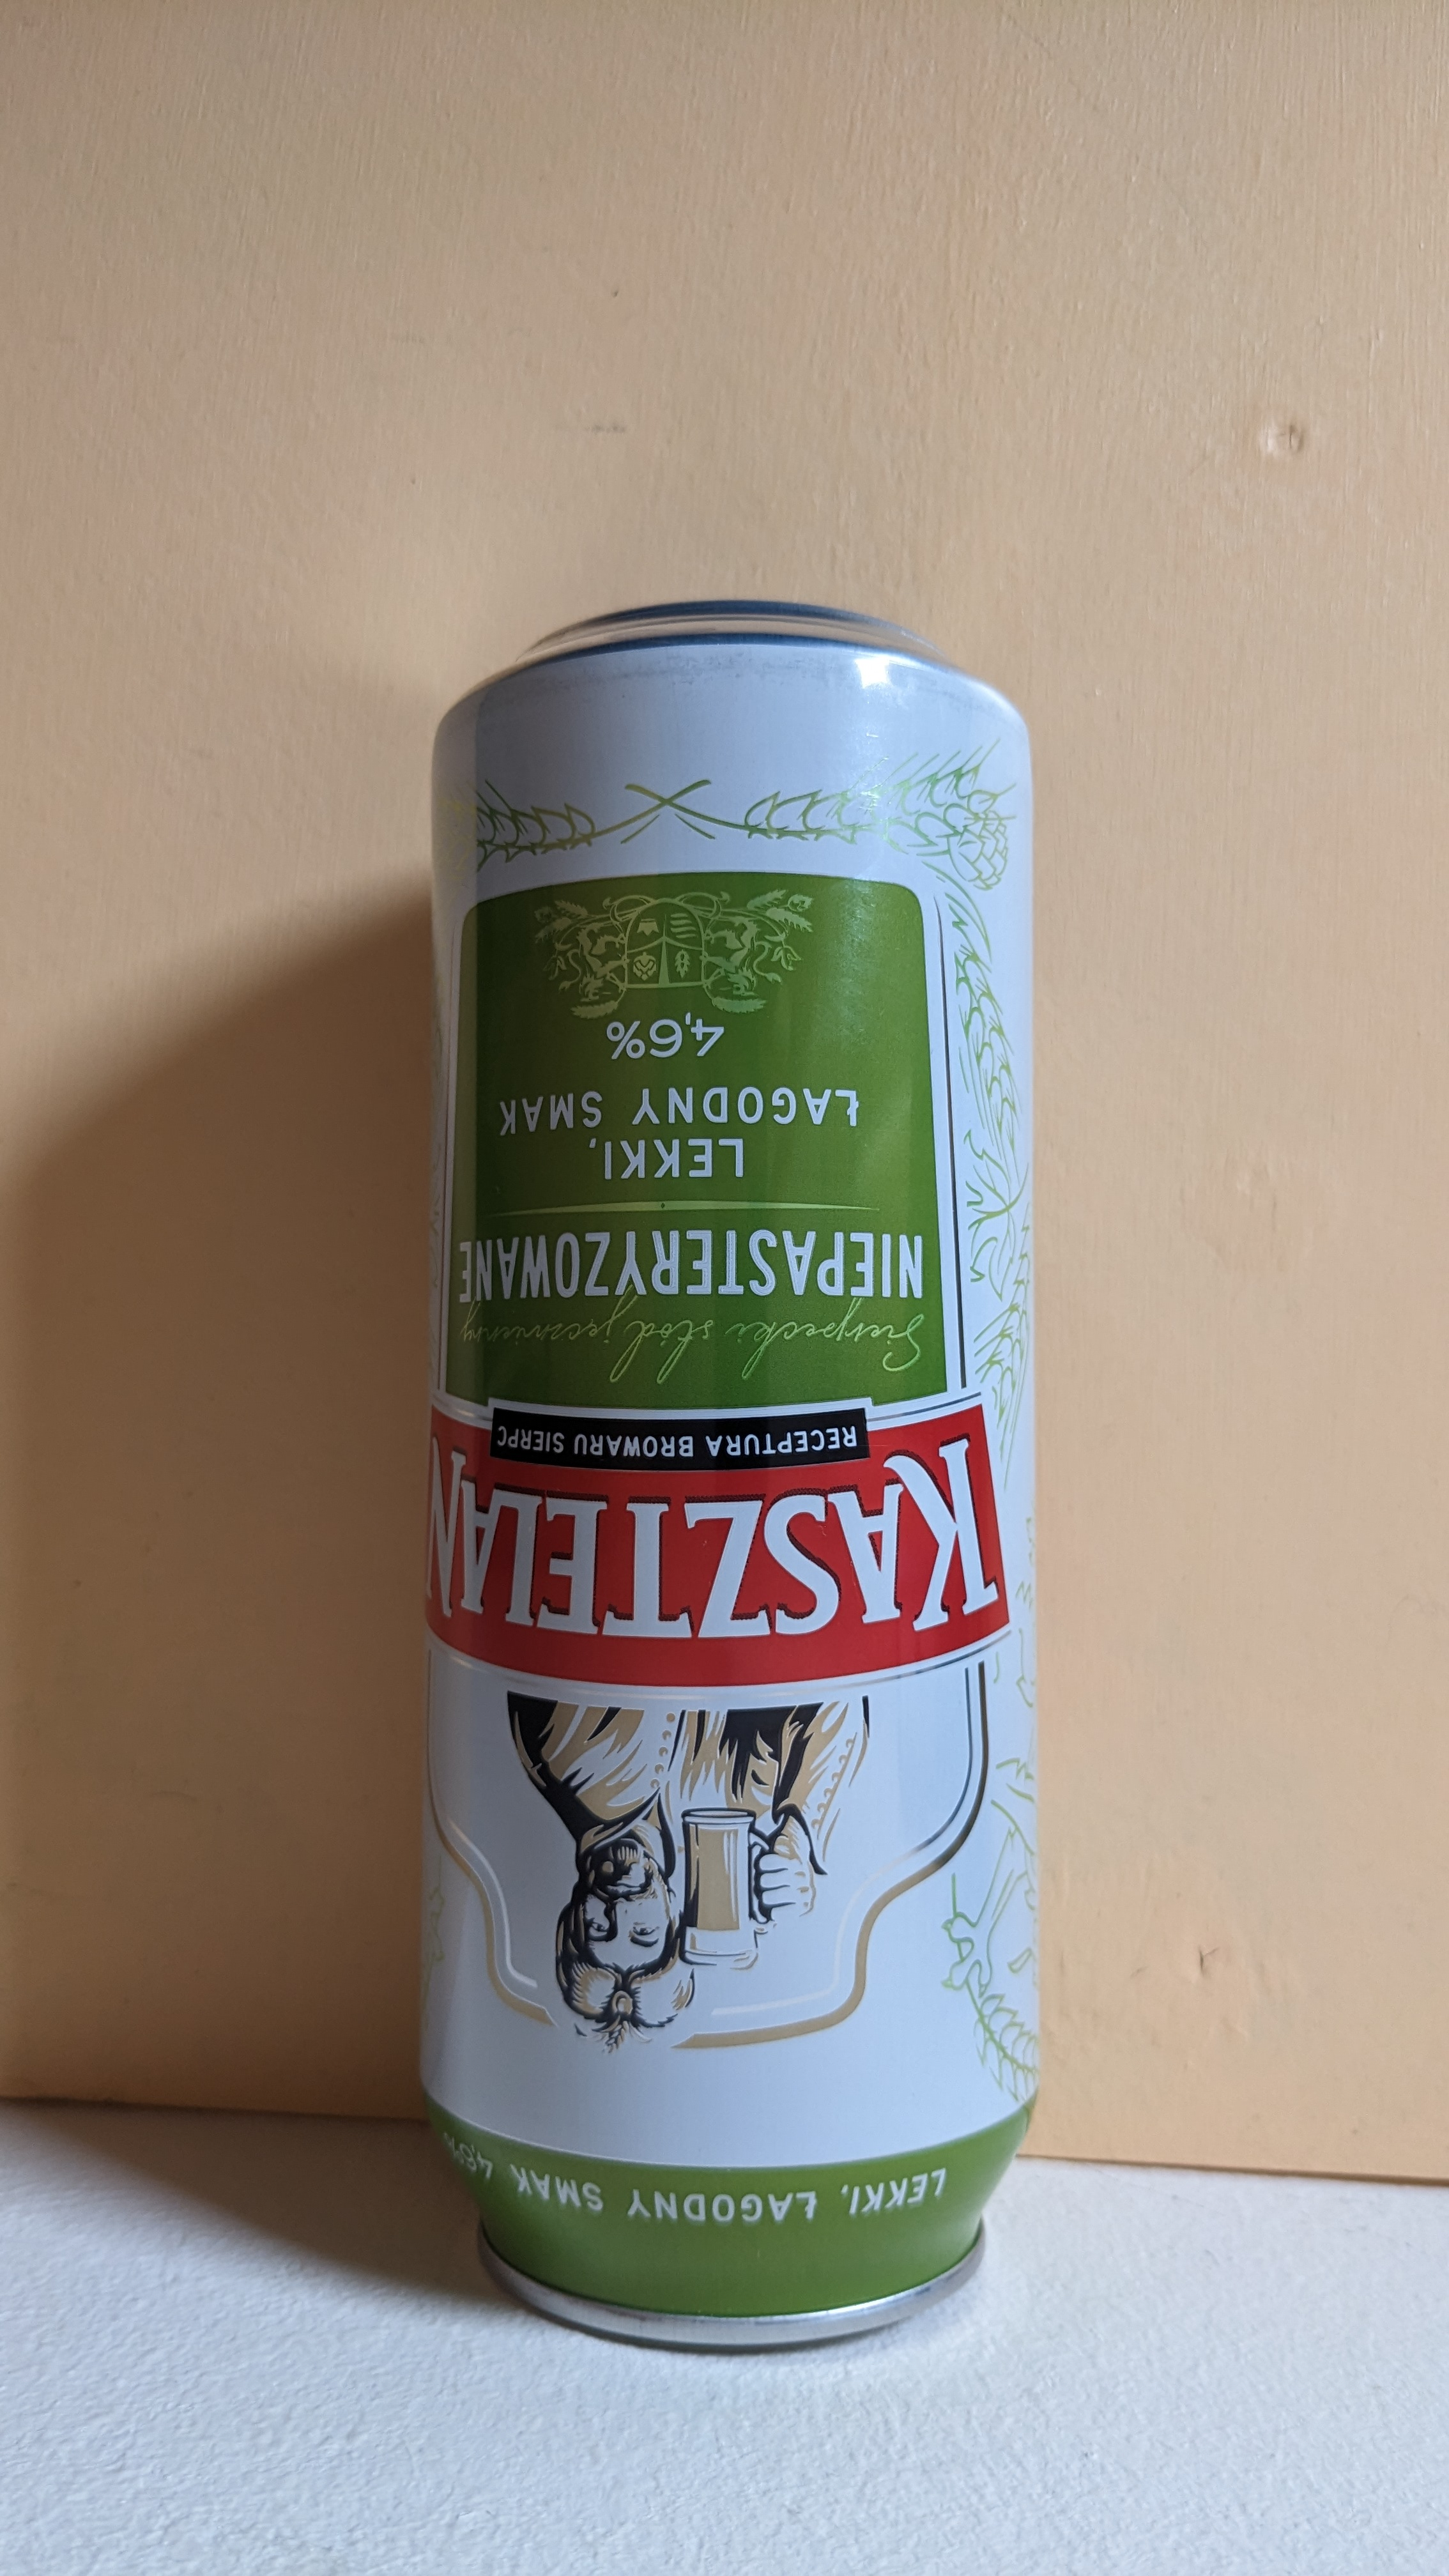kasztelan: (425, 577, 1053, 2371)
